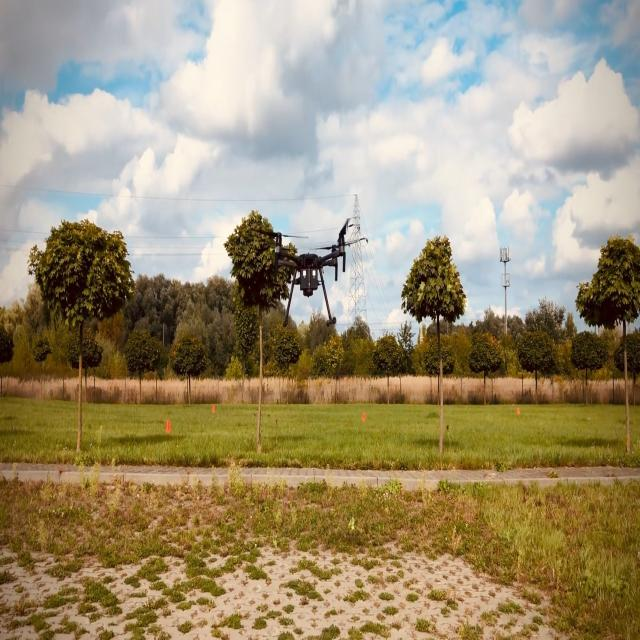drone: (251, 212, 368, 328)
